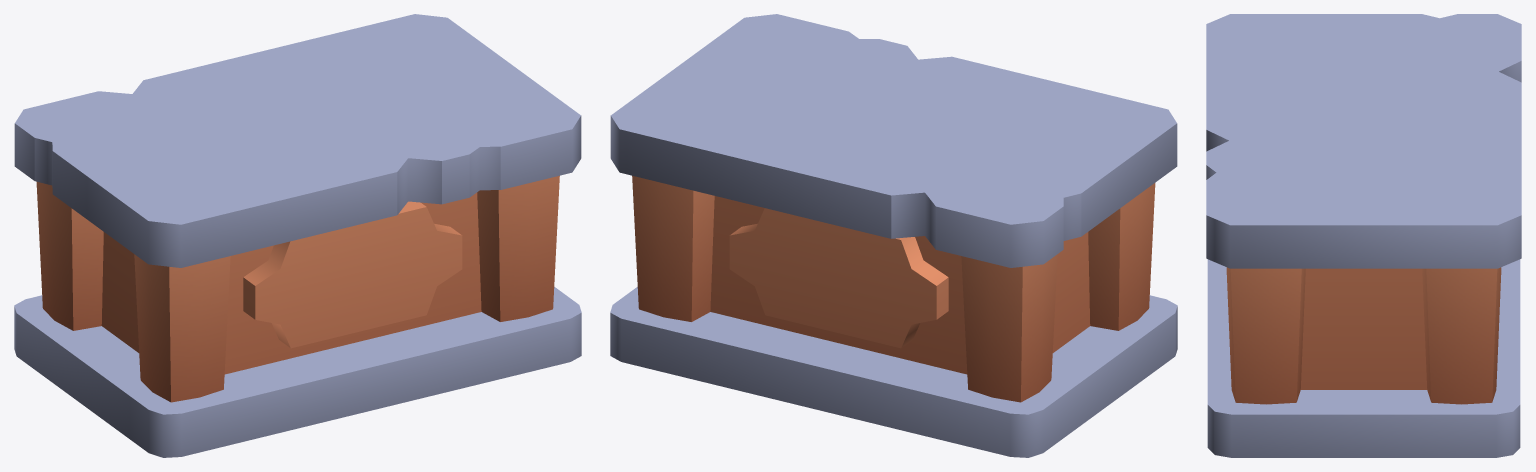
File: altar-wood.glb
3 views of the same model, side by side, from view 1: azimuth 30°, elevation 25°; view 2: azimuth 150°, elevation 25°; view 3: azimuth 270°, elevation 25° (orthographic).
Parts seen in each view (by area): view 1: altar-wood; view 2: altar-wood; view 3: altar-wood.
Part boxes in pixels (bbox=[...]): altar-wood: bbox=[14, 14, 581, 457]; altar-wood: bbox=[610, 14, 1177, 457]; altar-wood: bbox=[1206, 14, 1521, 457].
Bounding box in the file's own units: 20.9 × 10.75 × 13.17.
Materials: 1 (1 with a texture image).
